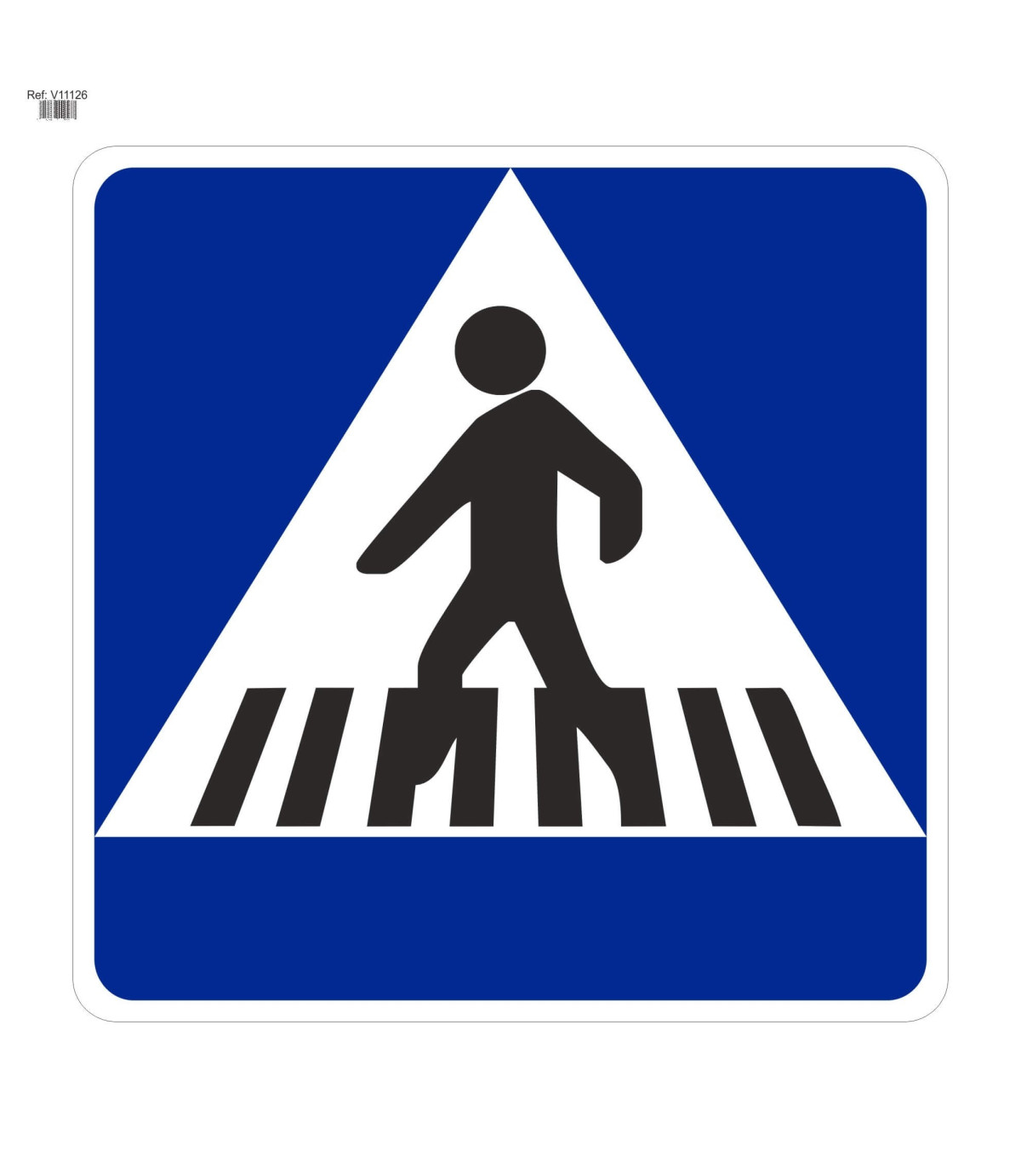CrossSign: (55, 135, 961, 1033)
